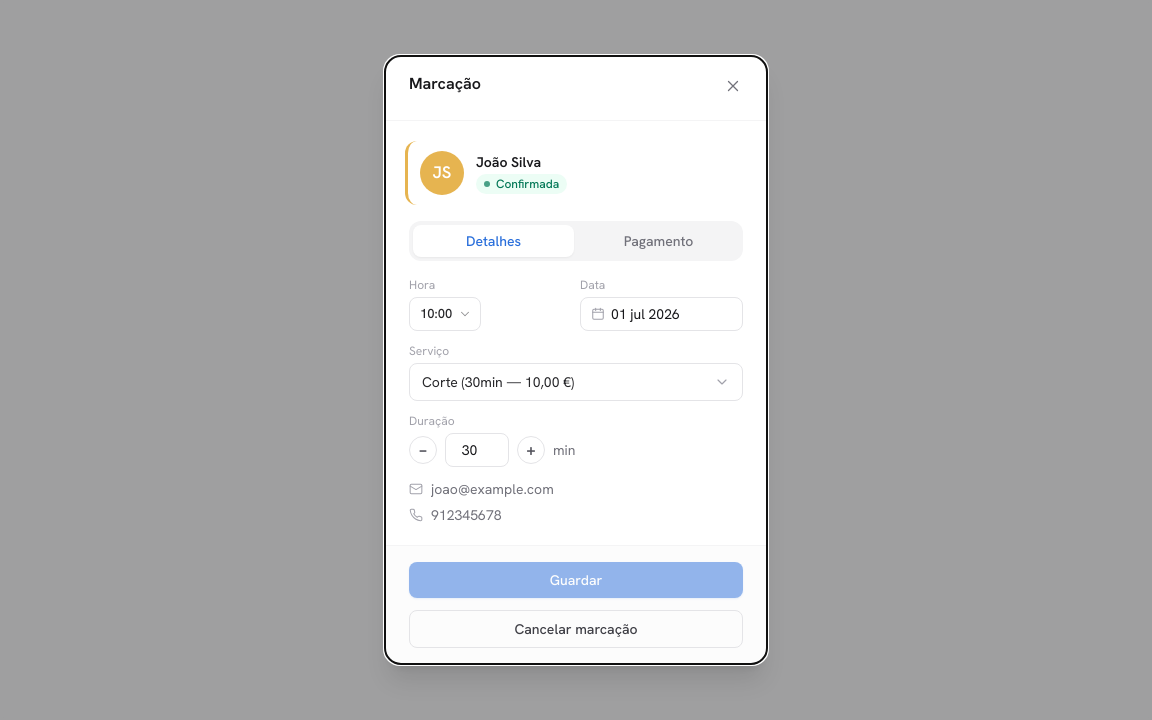
Test case: ApptModal — botão único de pagamento (cor por tom) › valor a menos: âmbar, e o link de concluir sem pagamento desaparece
Click the tab "Pagamento": (658, 241) [578,225,739,257]
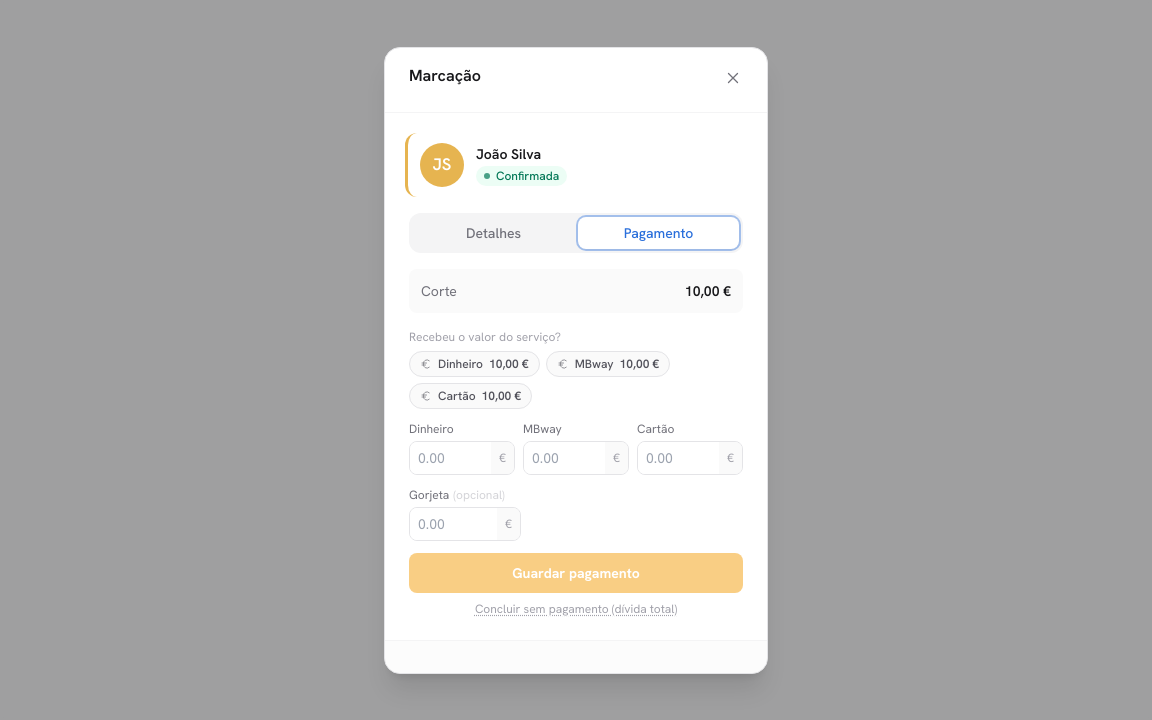
In the 1st number field with placeholder "0.00": (451, 458) [410,442,491,474], type "5"
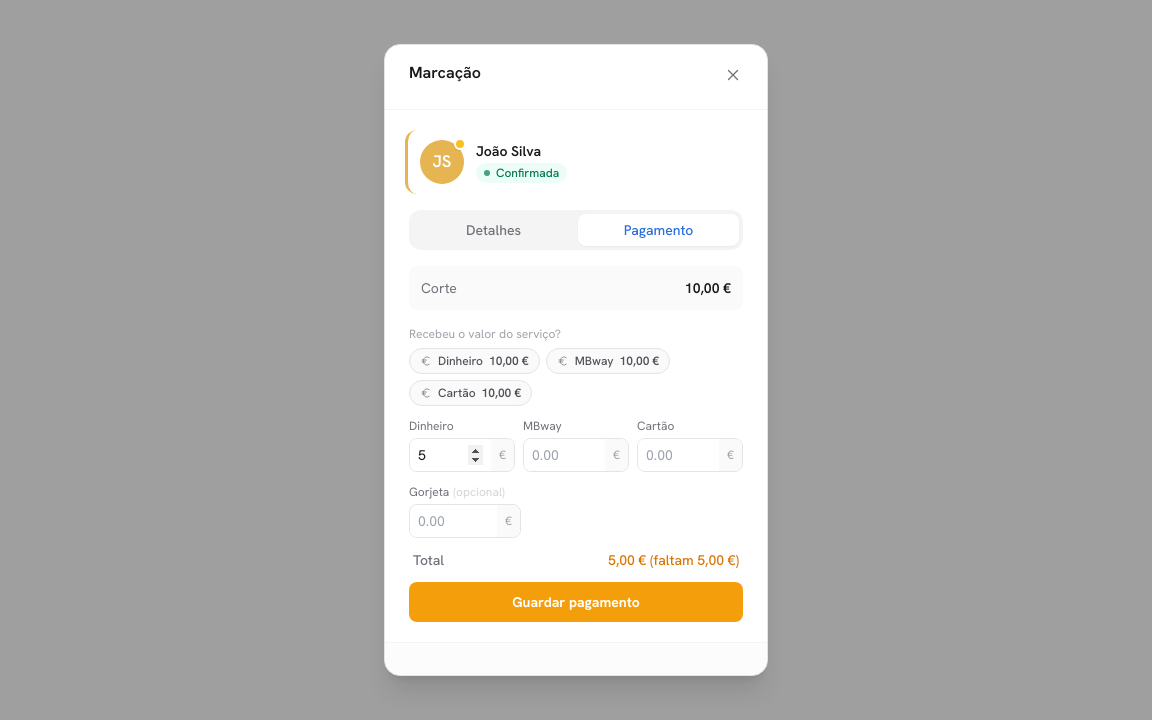
Expected: the button "Guardar pagamento" is enabled, [409,582,743,622]
Expected: the button "Concluir sem pagamento" is gone
